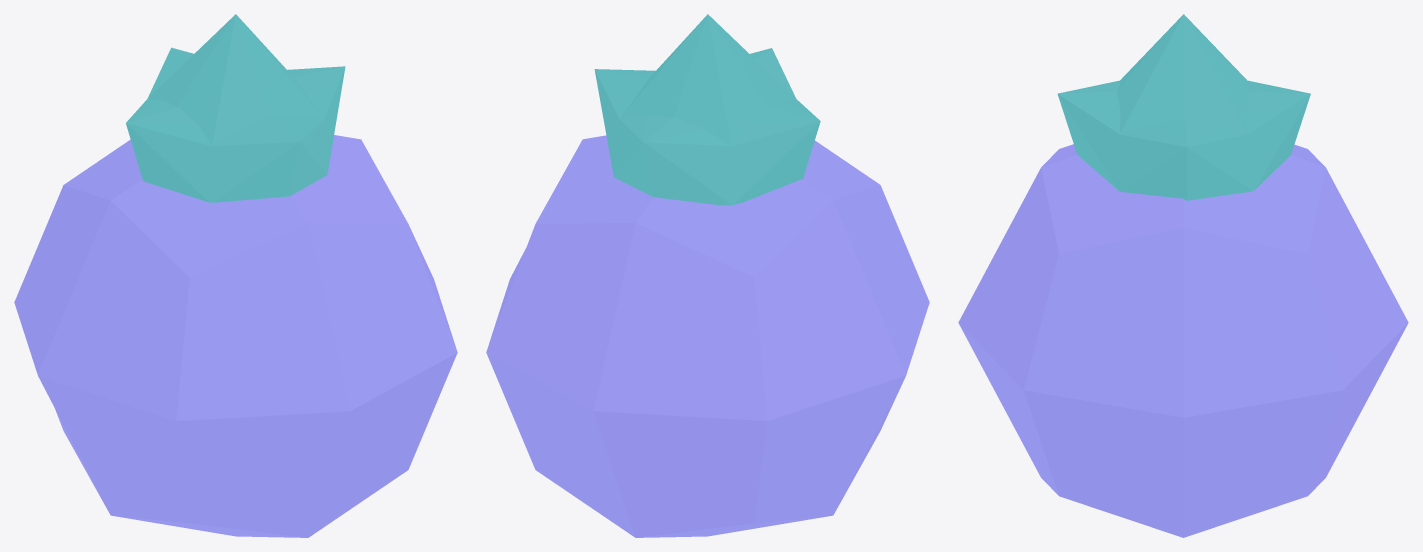
File: Berry.glb
3 renders of one model, left to right at view 1: azimuth 30°, elevation 25°; view 2: azimuth 150°, elevation 25°; view 3: azimuth 270°, elevation 25°, orthographic.
Parts seen in each view (by area): view 1: Berry, Leaf; view 2: Berry, Leaf; view 3: Berry, Leaf.
Boxes of the visible parts, x1,y1,x2,y2 form: Berry: [14, 135, 457, 537]; Leaf: [126, 14, 345, 202]; Berry: [486, 135, 929, 537]; Leaf: [594, 14, 820, 205]; Berry: [958, 144, 1408, 537]; Leaf: [1057, 14, 1310, 200].
Bounding box in the file's own units: 1.3 × 1.64 × 1.3.
